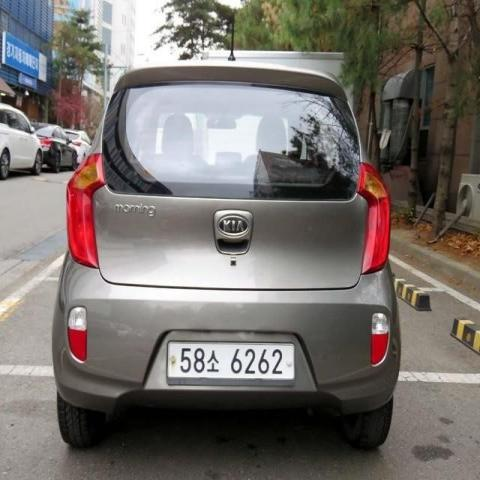LP: (162, 332, 298, 392)
